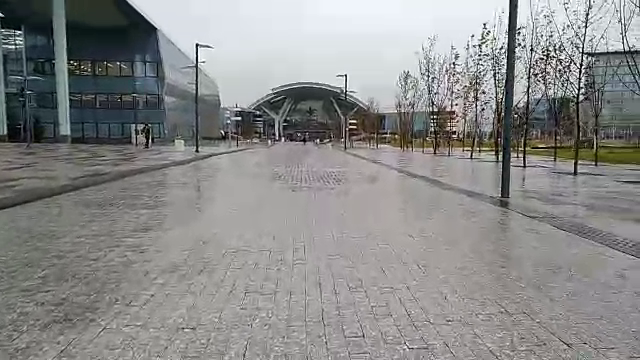mega: (248, 77, 373, 154)
